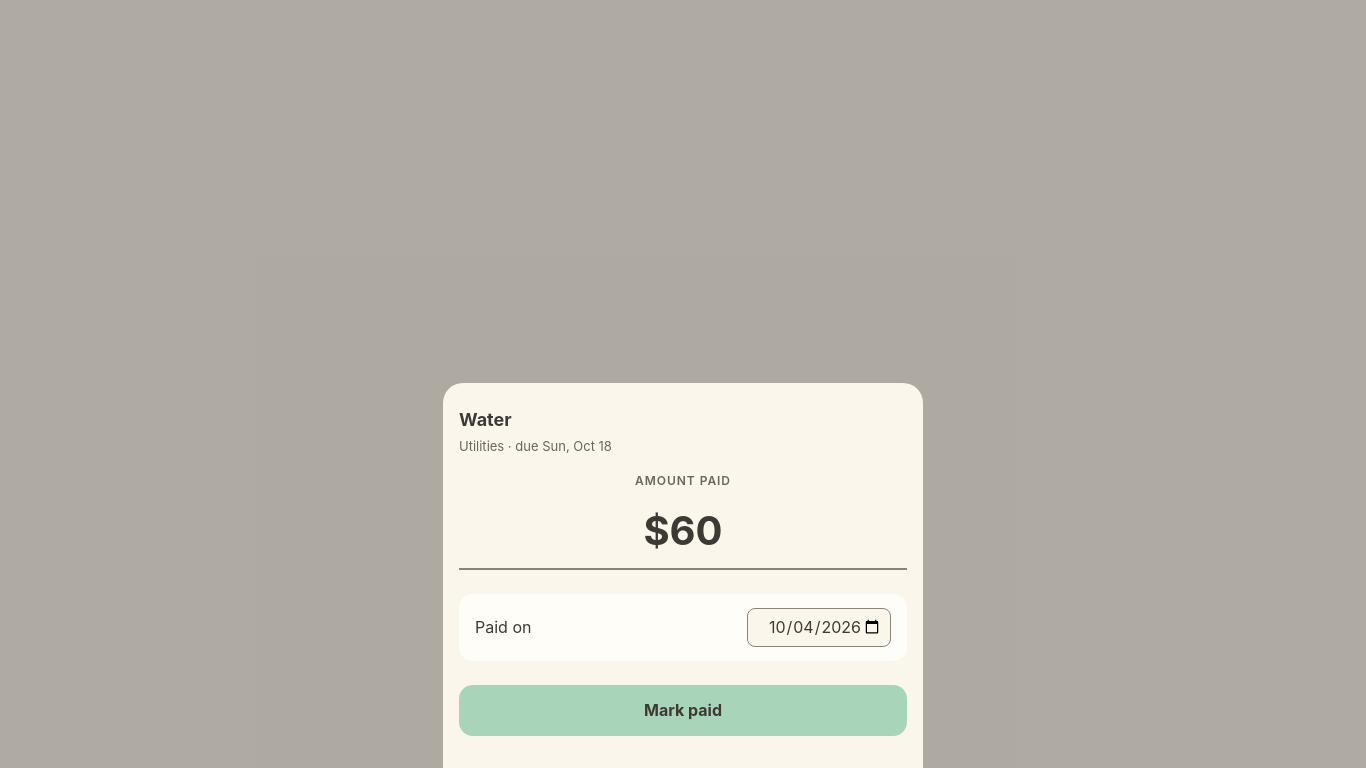
it: PaySheet › usual saved but payment failed says so calmly
Step 1. Clear the field labelled "Amount paid" → (683, 532), box left=459, top=494, right=907, bottom=570
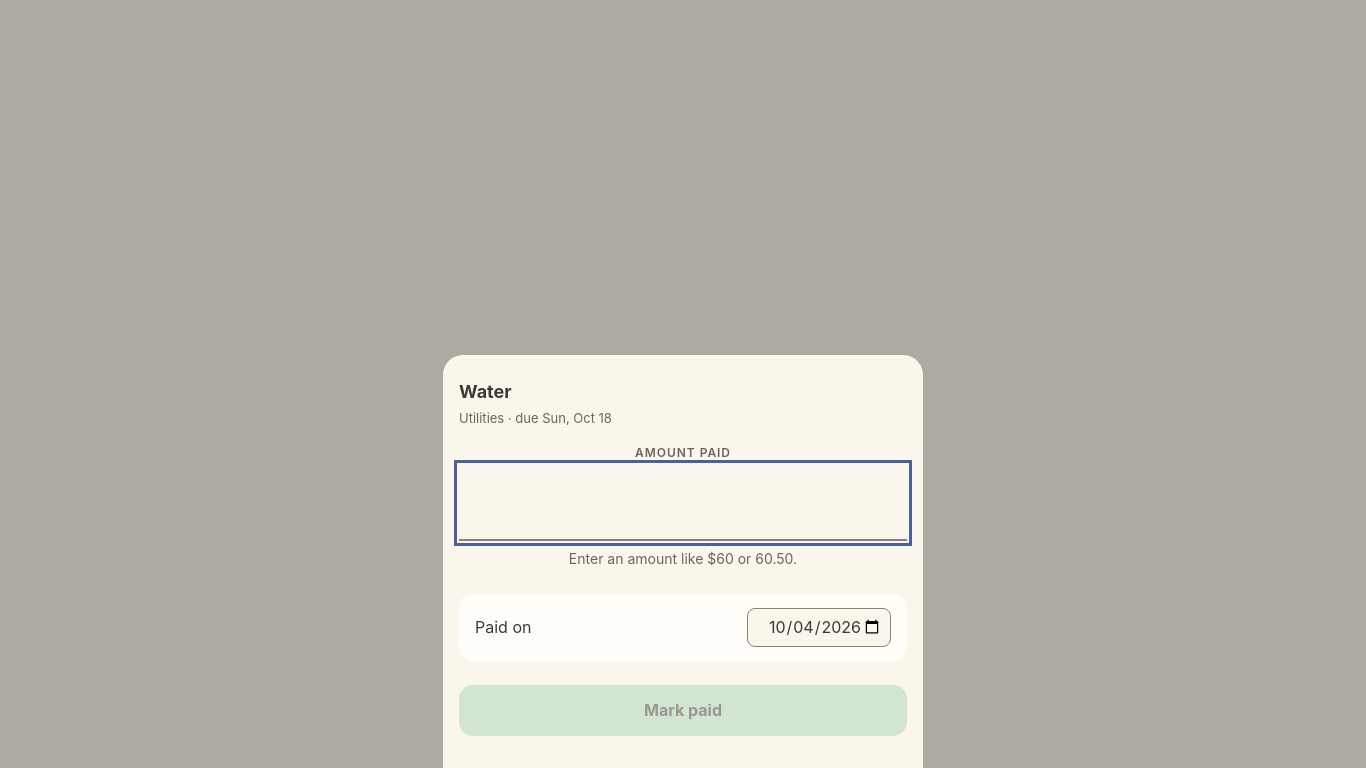
Step 2. Type "72" into the field labelled "Amount paid" → (683, 503), box left=459, top=465, right=907, bottom=541
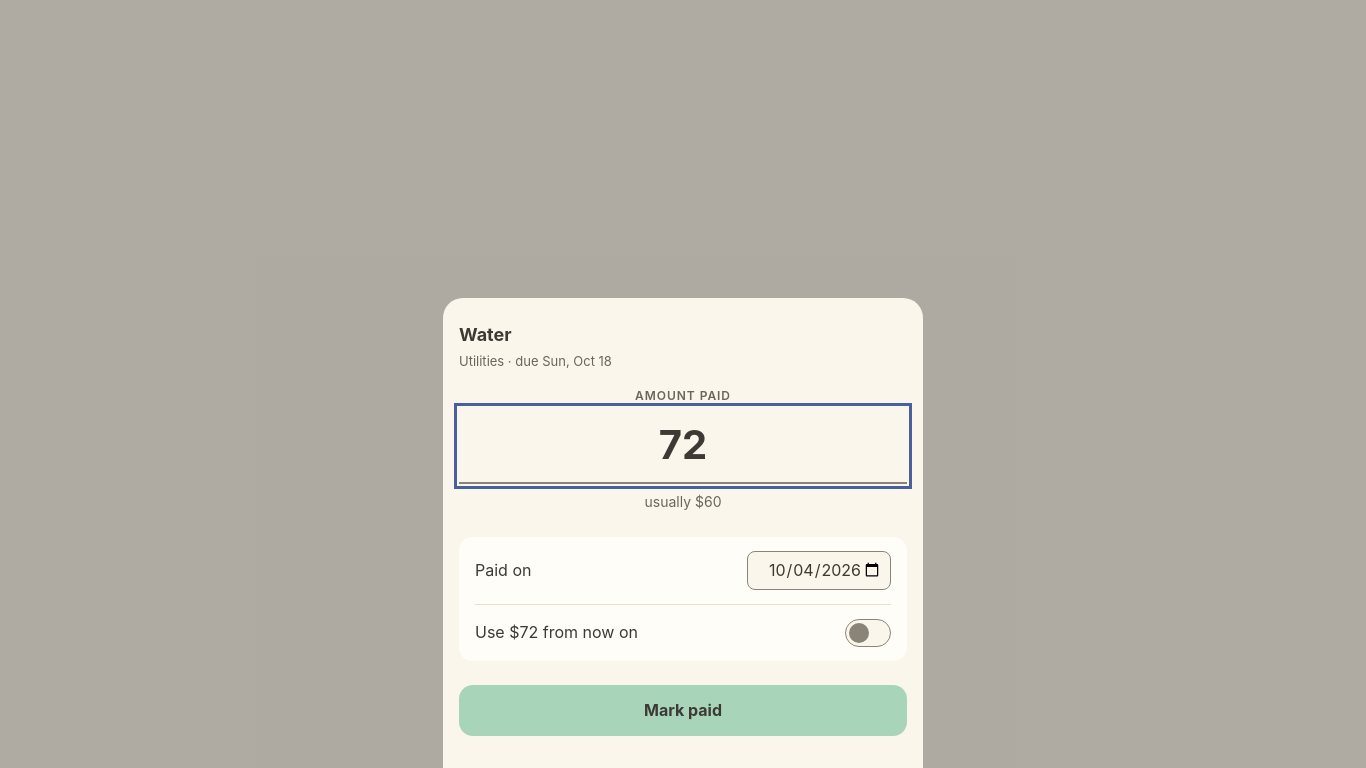
Step 3. Click the switch → (868, 633), box left=845, top=619, right=891, bottom=647
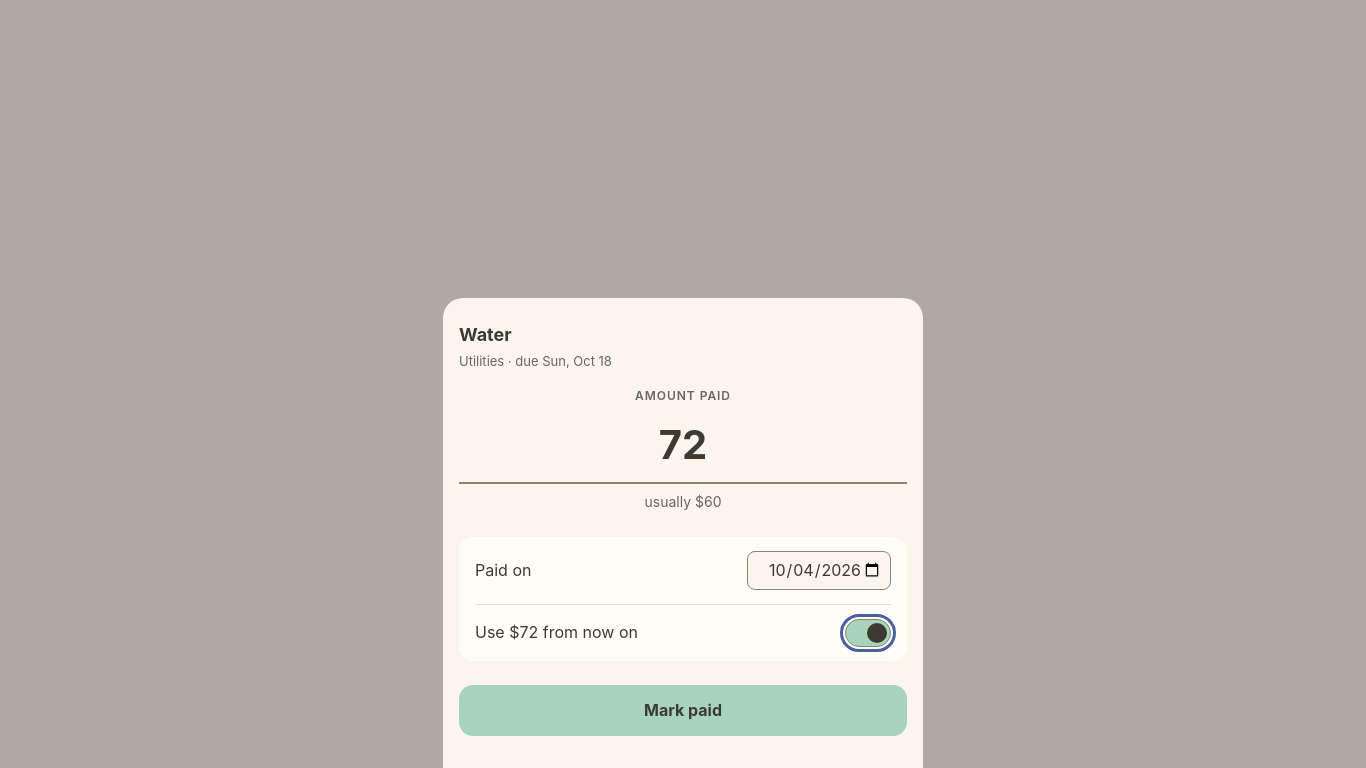
Step 4. Click the button "Mark paid" → (683, 710), box left=459, top=685, right=907, bottom=736
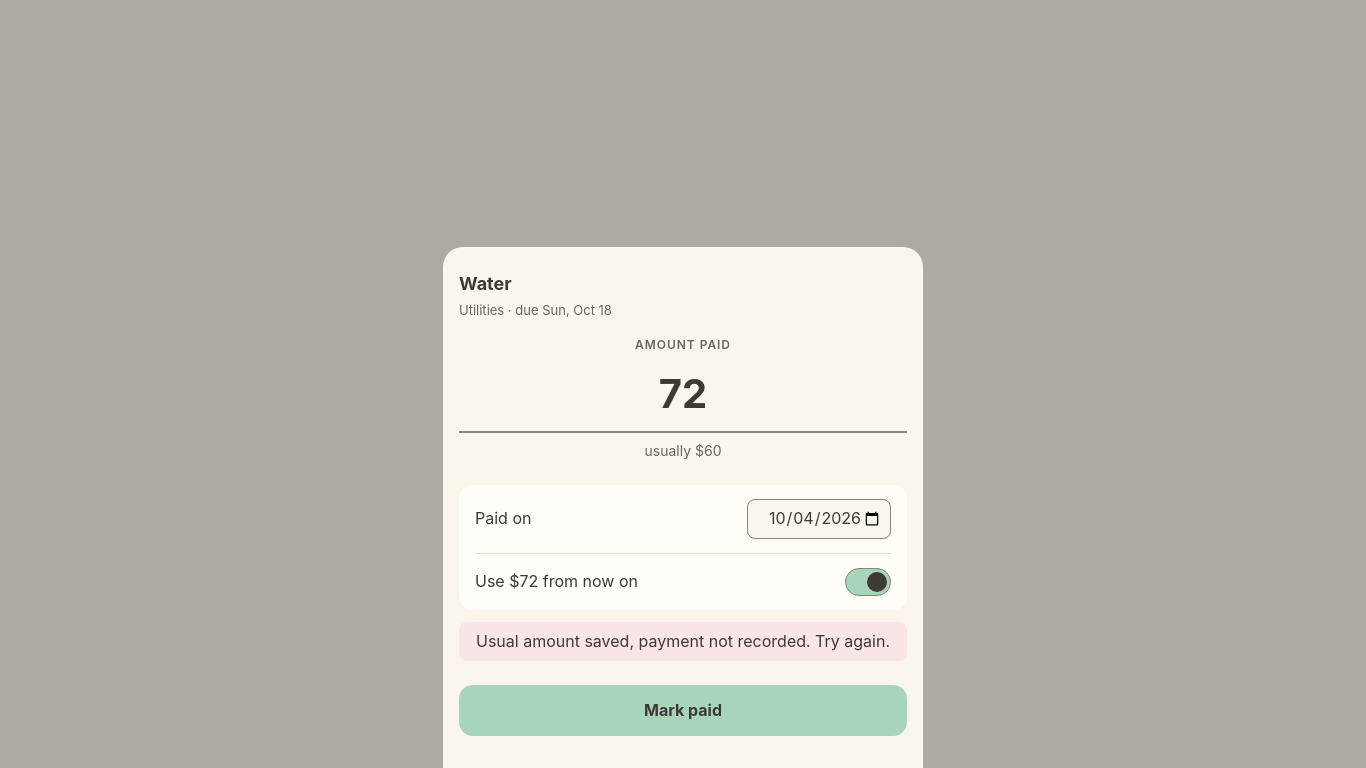
expect the message reads "Usual amount saved, payment not recorded. Try again.": met, box left=476, top=631, right=890, bottom=651
